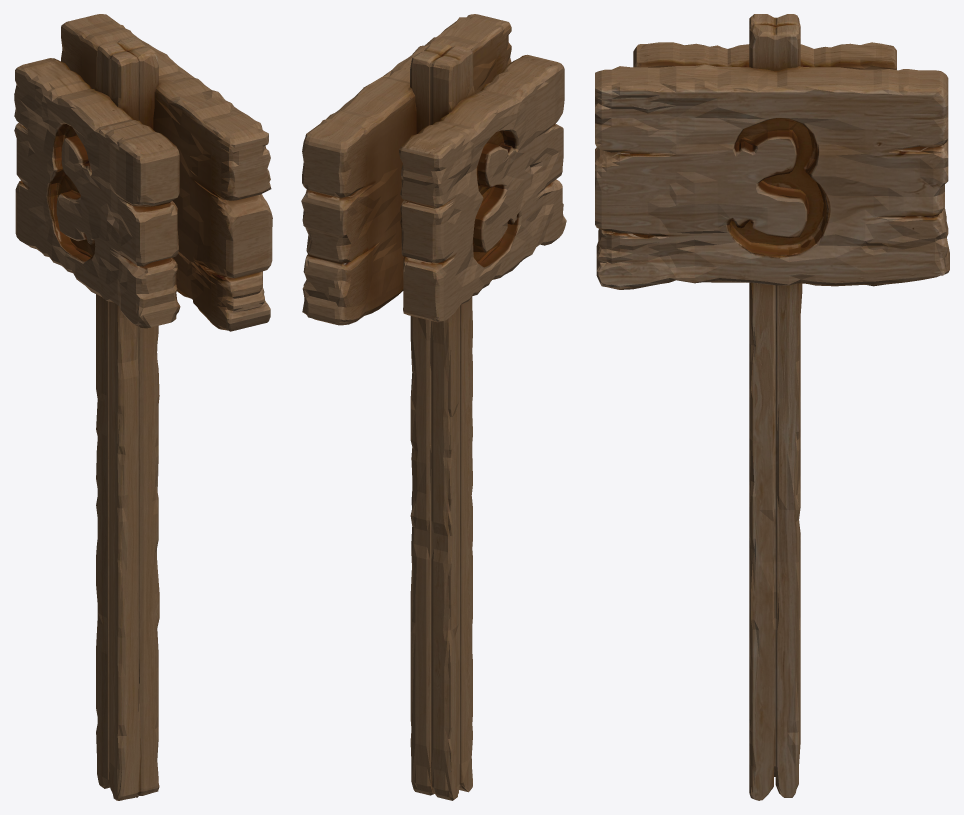
Rendered from Letrero 3.glb.
The picture shows the model from 3 angles, left to right: view 1: azimuth 30°, elevation 25°; view 2: azimuth 150°, elevation 25°; view 3: azimuth 270°, elevation 25°; orthographic projection. The views are drawn at different scales.
Visible parts, largest first — view 1: tripo_node_15ae9335-b45a-4a64-a1a2-88965aeff1c7; view 2: tripo_node_15ae9335-b45a-4a64-a1a2-88965aeff1c7; view 3: tripo_node_15ae9335-b45a-4a64-a1a2-88965aeff1c7.
Part boxes in pixels (<box>): tripo_node_15ae9335-b45a-4a64-a1a2-88965aeff1c7: <box>14,14,272,800</box>; tripo_node_15ae9335-b45a-4a64-a1a2-88965aeff1c7: <box>301,14,566,800</box>; tripo_node_15ae9335-b45a-4a64-a1a2-88965aeff1c7: <box>595,14,949,800</box>.
Bounding box in the file's own units: 0.1663 × 1 × 0.4188.
Materials: 1 (1 with a texture image).
